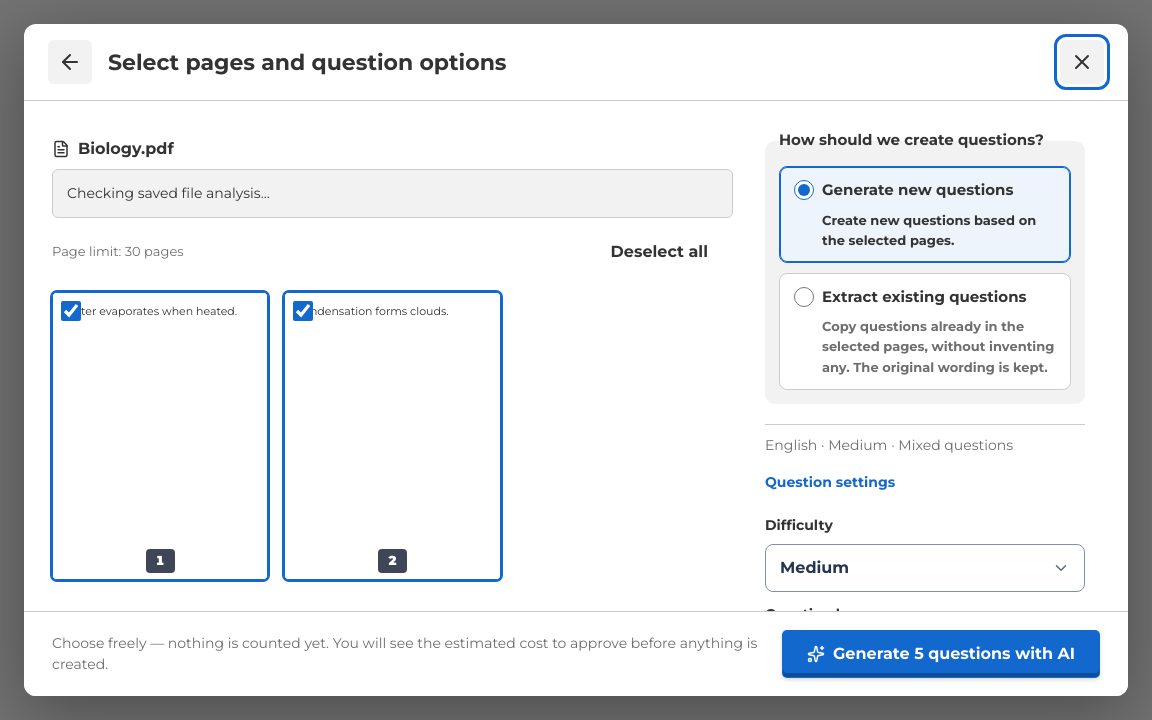
prices nothing while the teacher chooses, and asks once when they press create
Expected: the text "Water evaporates when heated." is shown, [53,293,267,579]
Click the radio button labelled "Extract existing questions": (804, 297) [794,287,814,307]
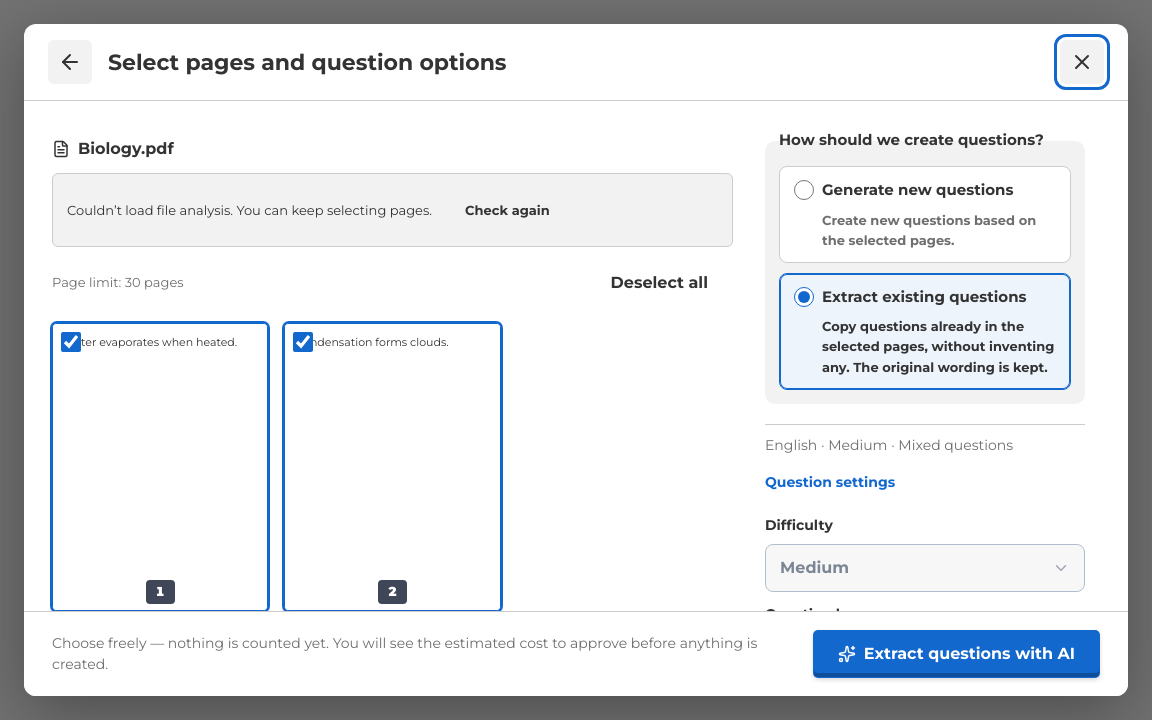
Click the checkbox named "Page 1": (71, 342) [61,332,81,352]
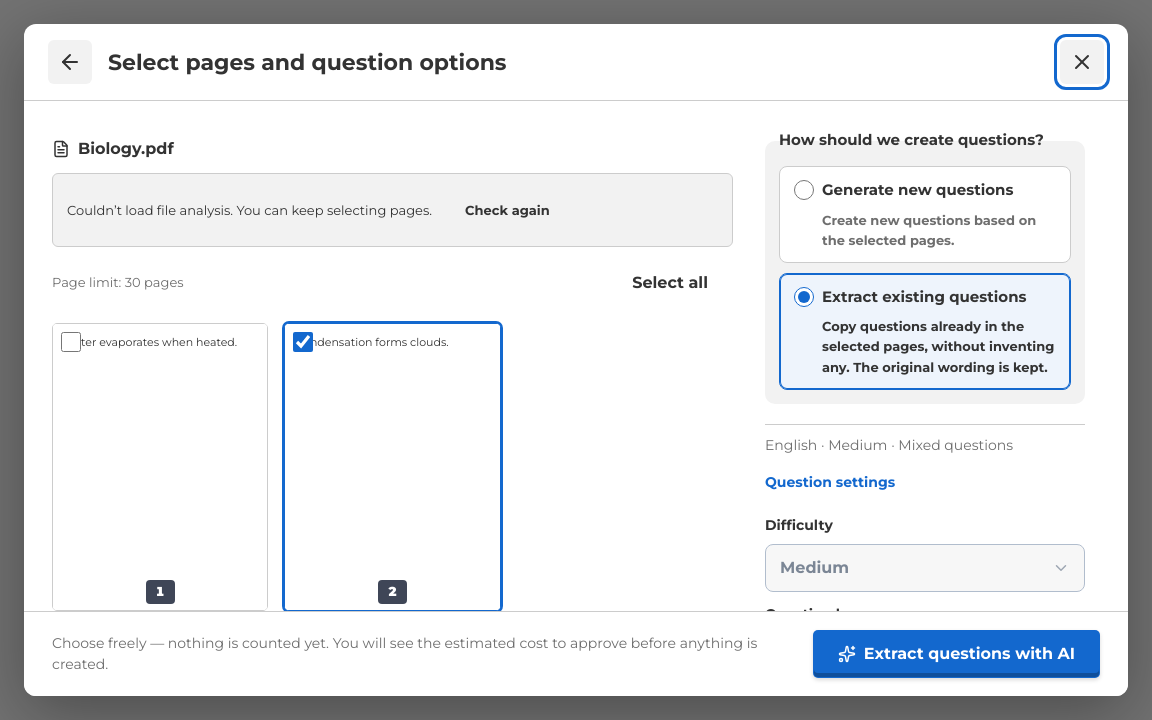
Click the checkbox named "Page 1": (71, 342) [61,332,81,352]
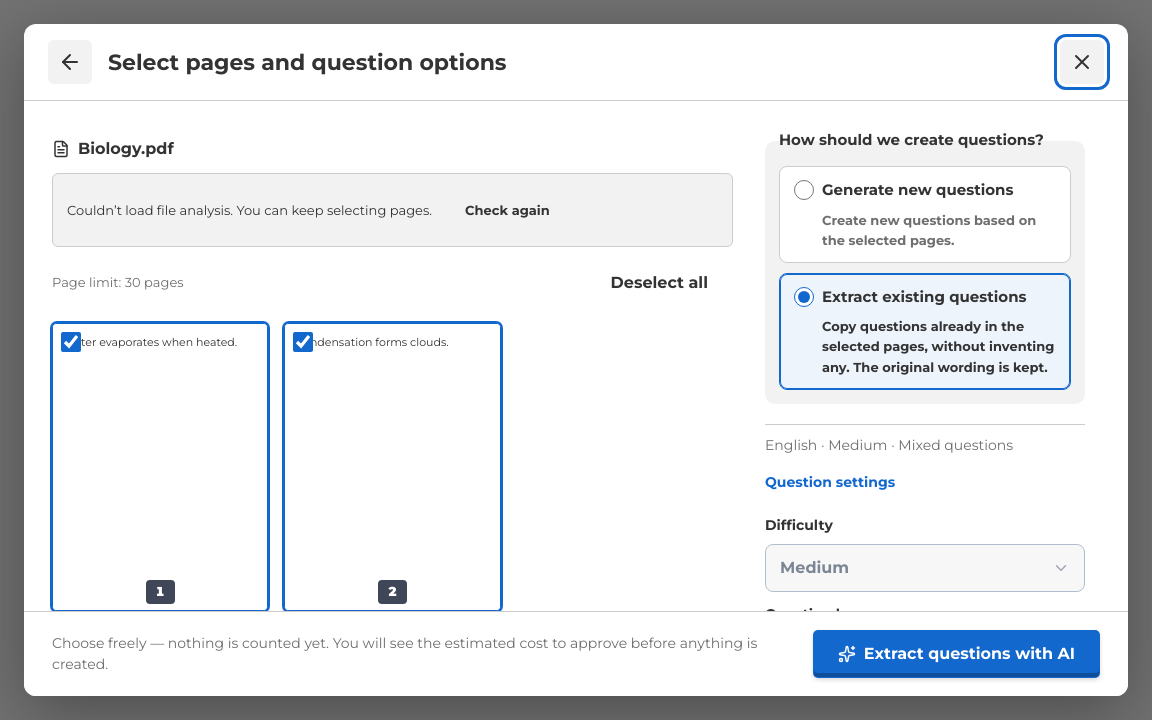
Click the radio button labelled "Generate new questions": (804, 190) [794,180,814,200]
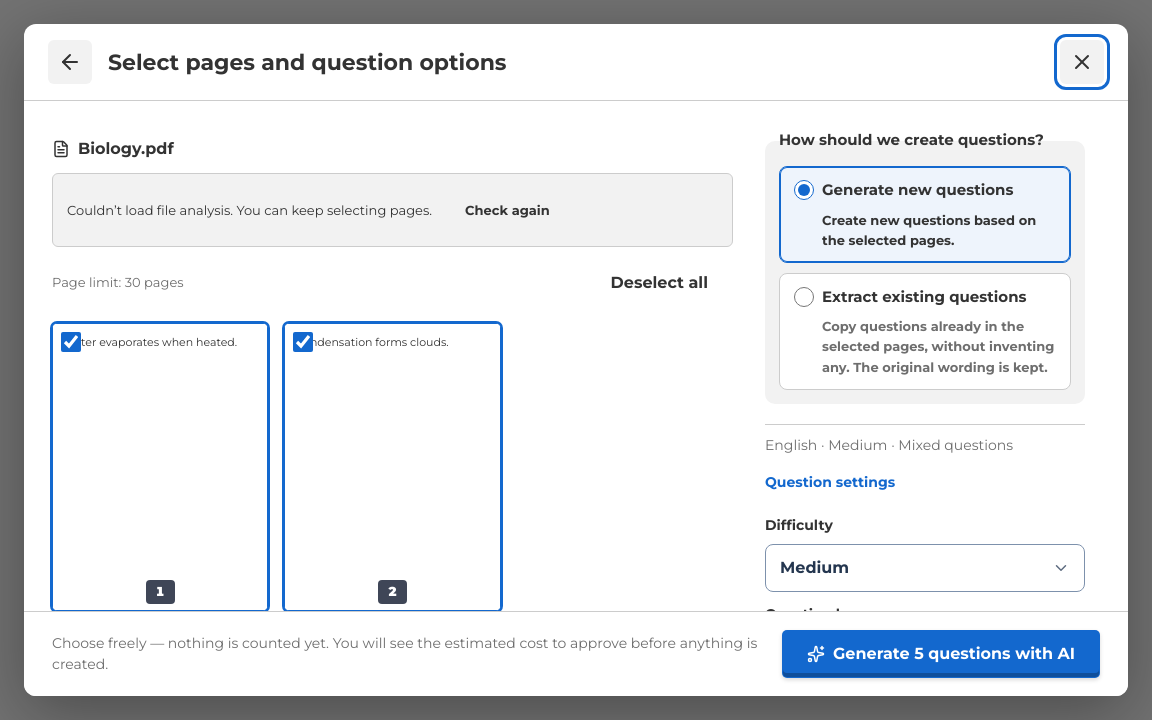
Click the button "Generate 5 questions with AI": (941, 654) [782,630,1100,678]
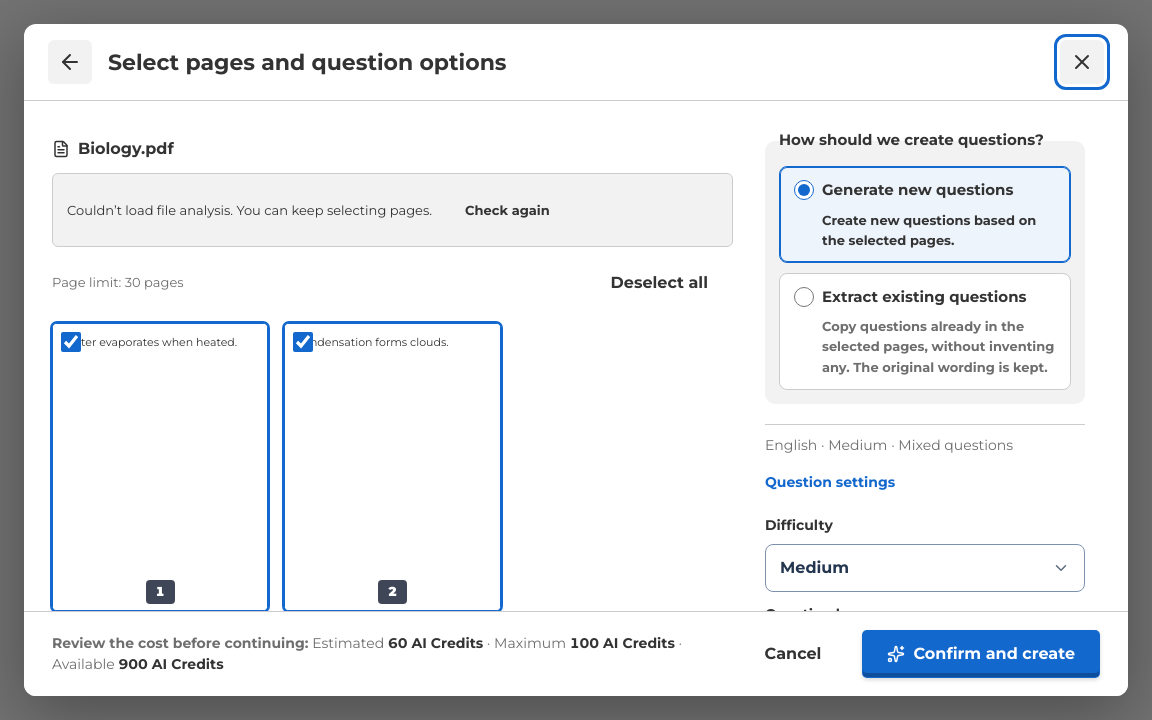
Result: the text "Review the cost before continuing:" is shown at [52,634,308,652]
